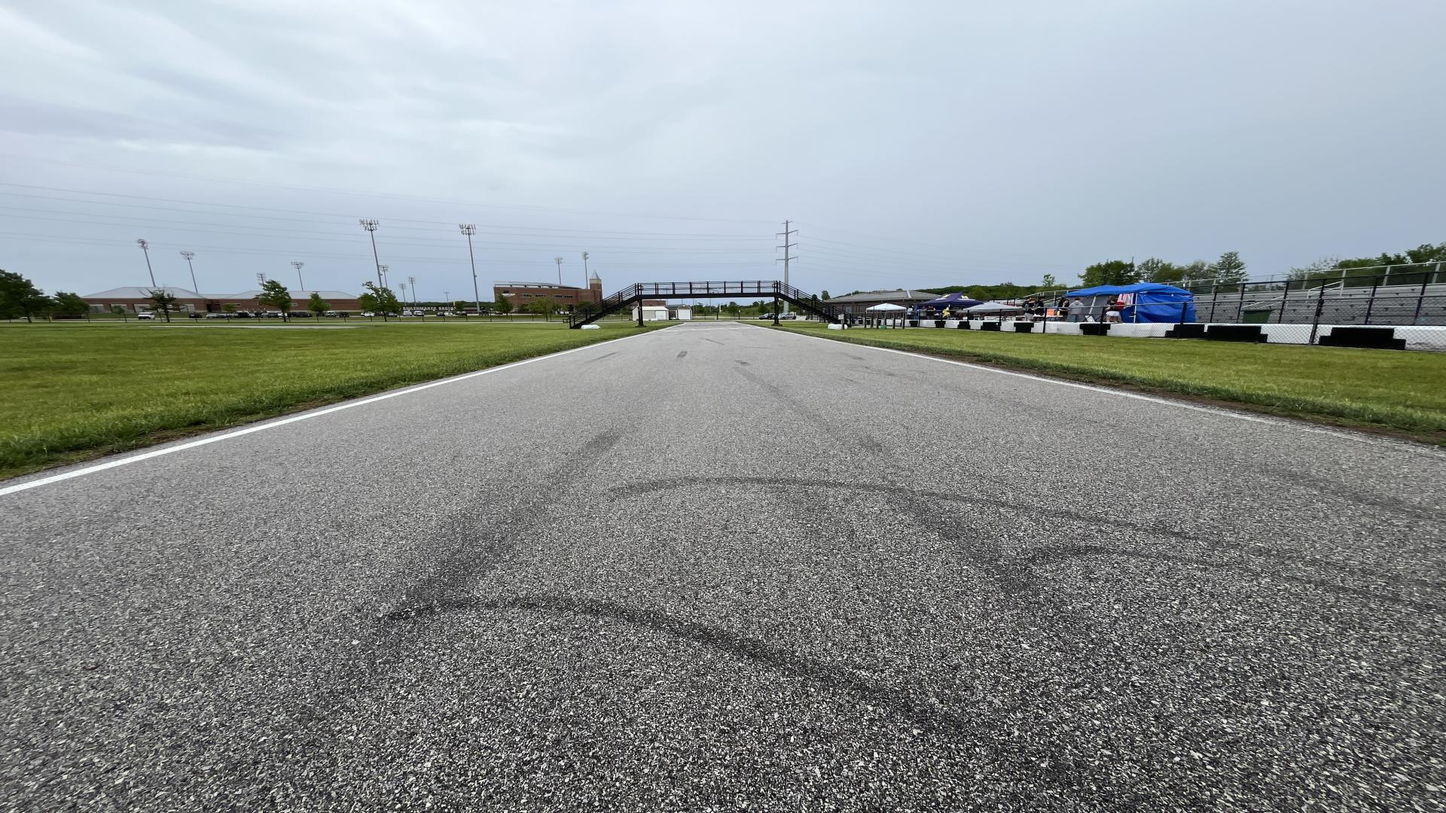white-line: (0, 332, 654, 496), (765, 329, 1445, 457), (664, 324, 684, 330), (742, 324, 760, 327)
